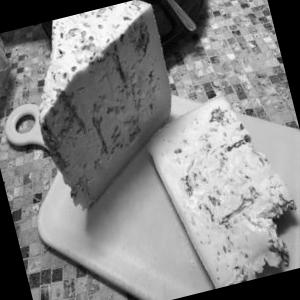cheese: (3, 0, 212, 229), (133, 80, 300, 295)
